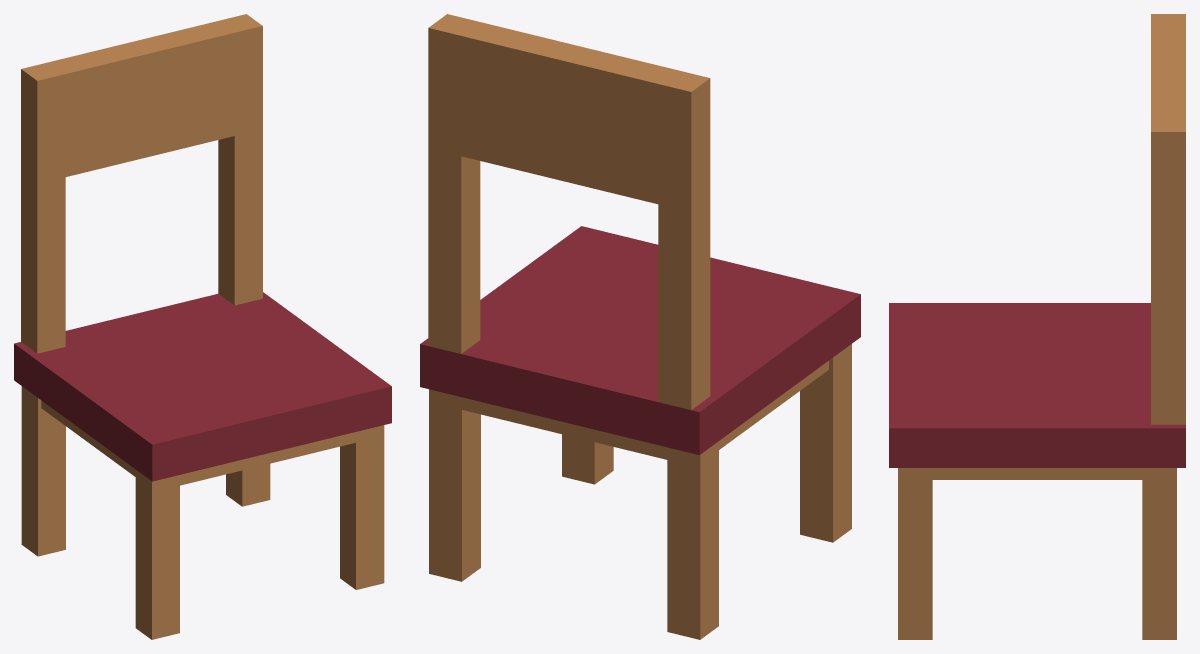
The model's file is chair.glb.
3 renders of one model, left to right at view 1: azimuth 30°, elevation 25°; view 2: azimuth 150°, elevation 25°; view 3: azimuth 270°, elevation 25°, orthographic. The views are drawn at different scales.
Visible parts, largest first — view 1: chair; view 2: chair; view 3: chair.
Part boxes in pixels (x1,y1,x2,y2): chair: [14, 14, 391, 639]; chair: [420, 14, 860, 639]; chair: [889, 14, 1185, 639].
Size of the model in its own units: 0.34 by 0.64 by 0.34.
1 material, 1 textured.
